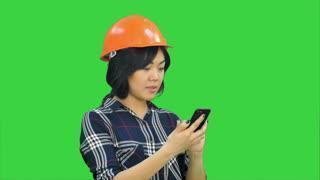helmet: (99, 13, 173, 60)
